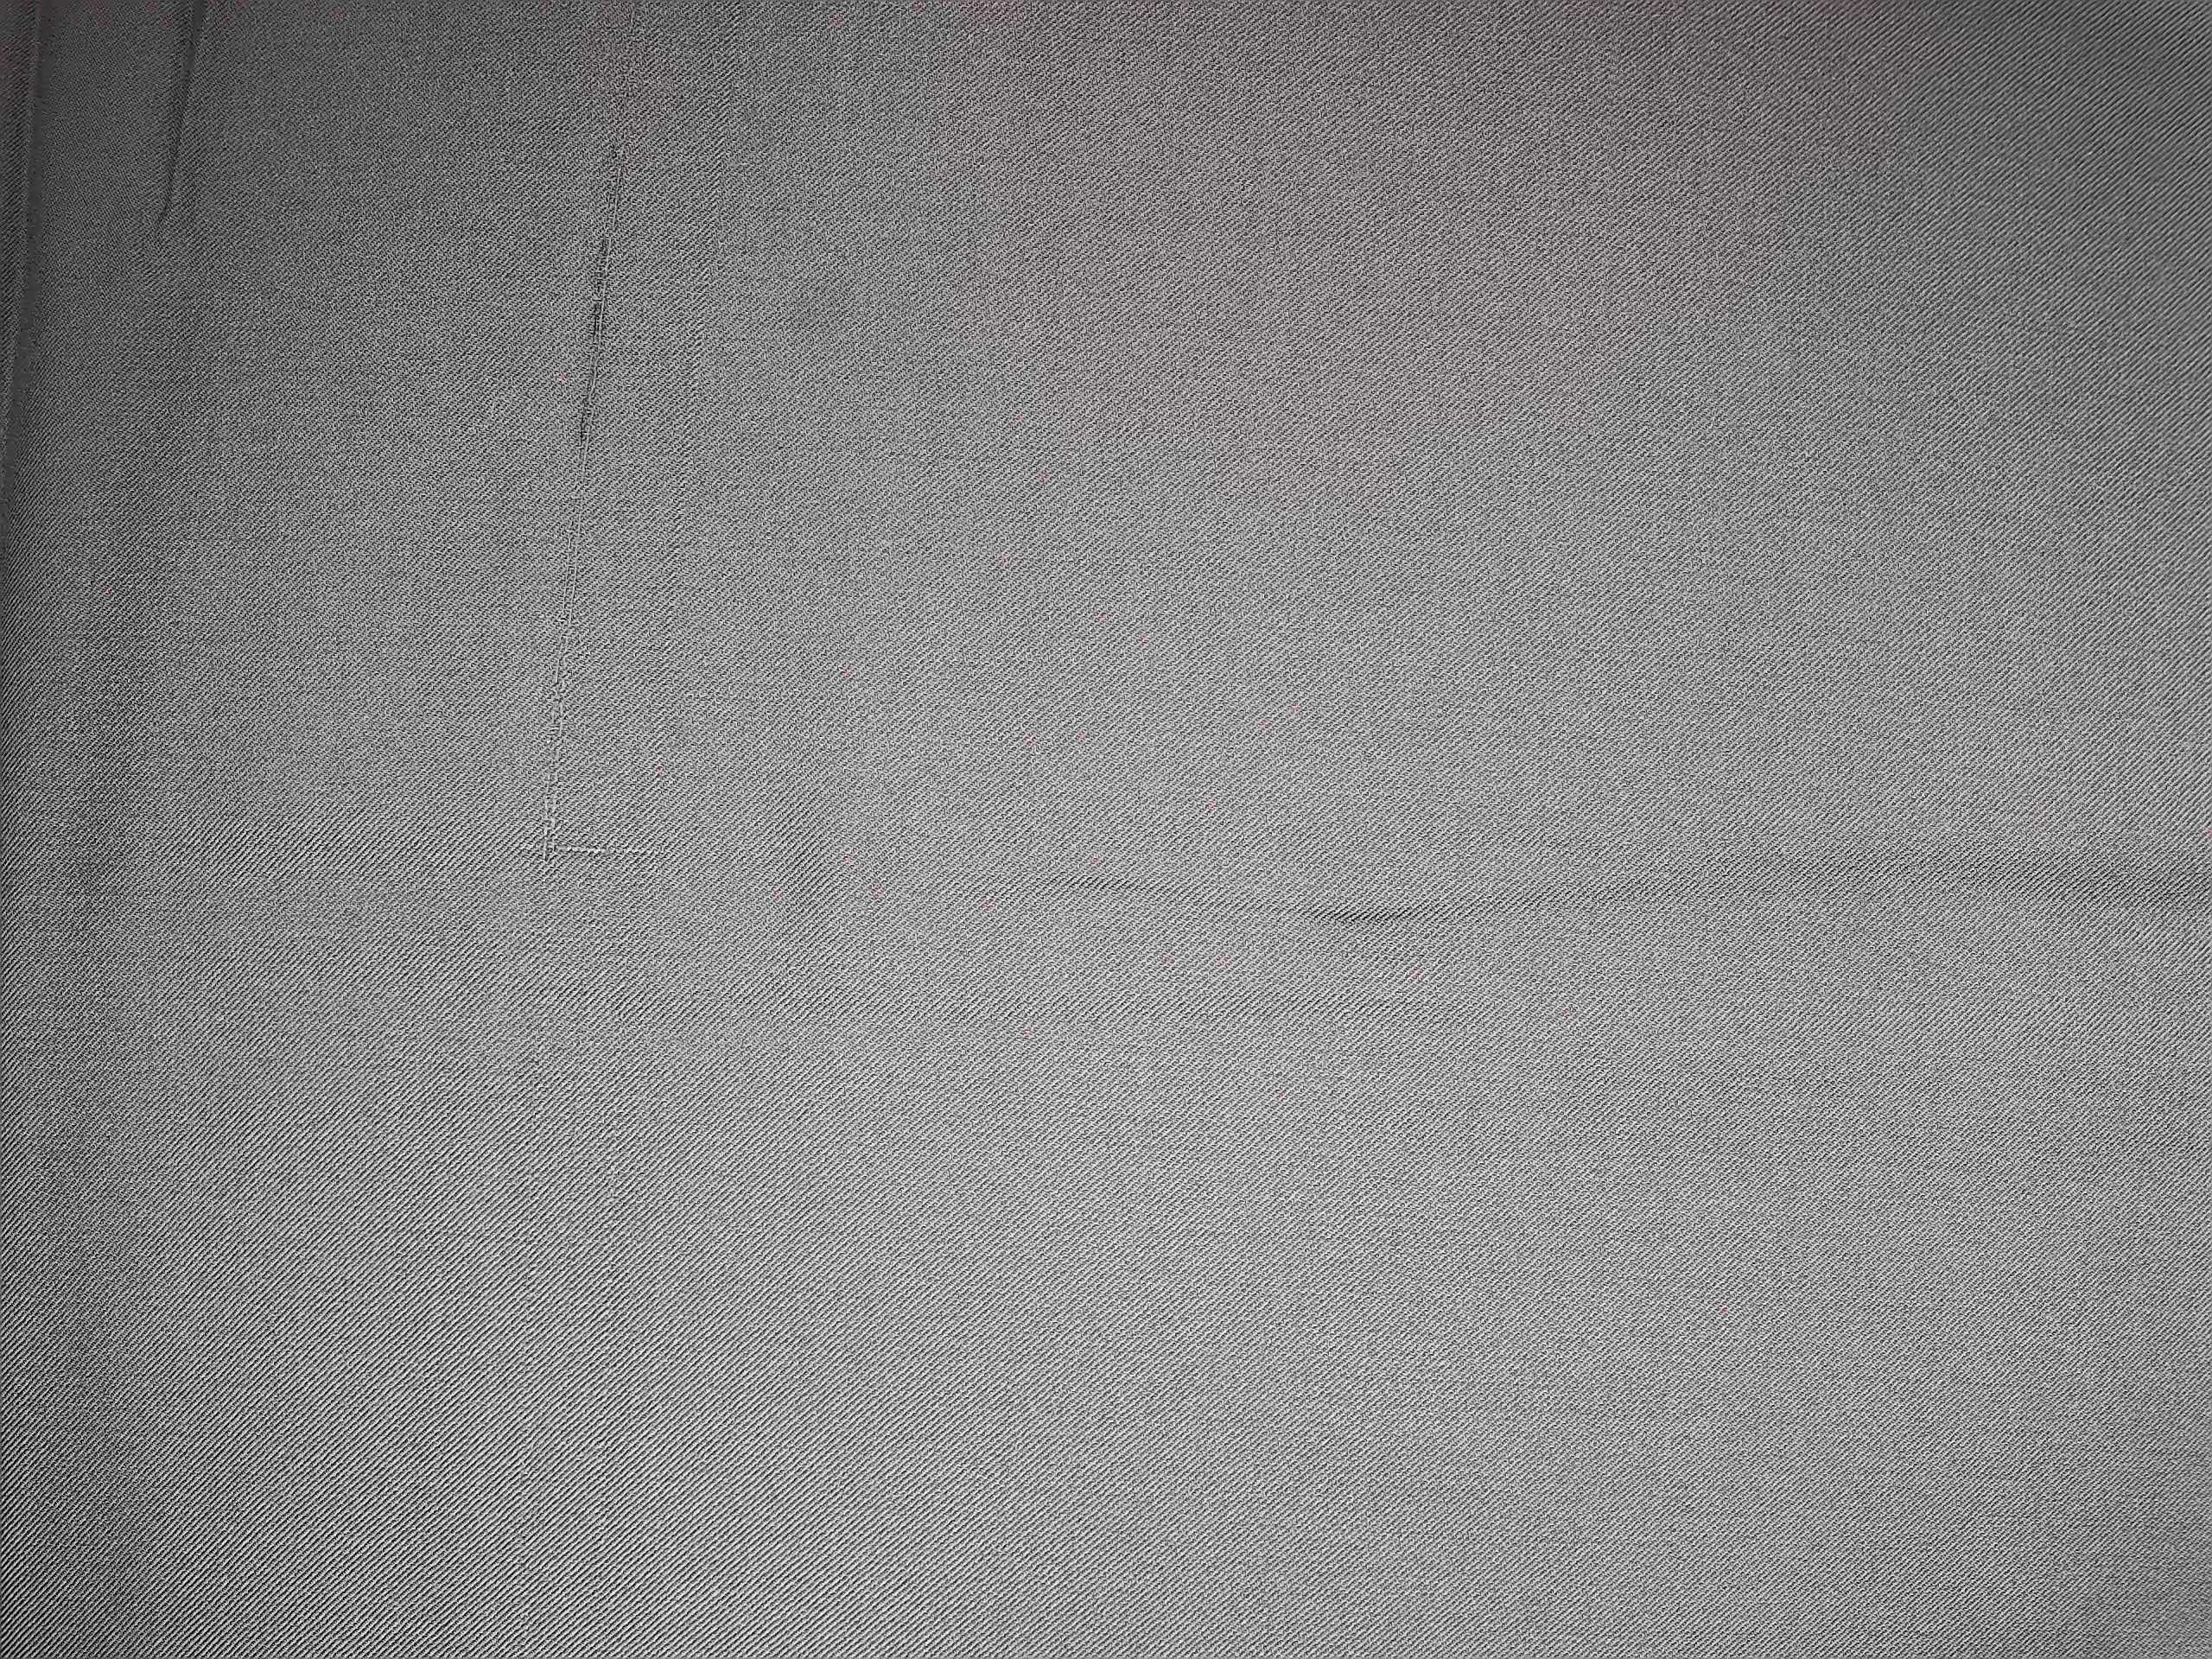jumps: (510, 78, 678, 887)
